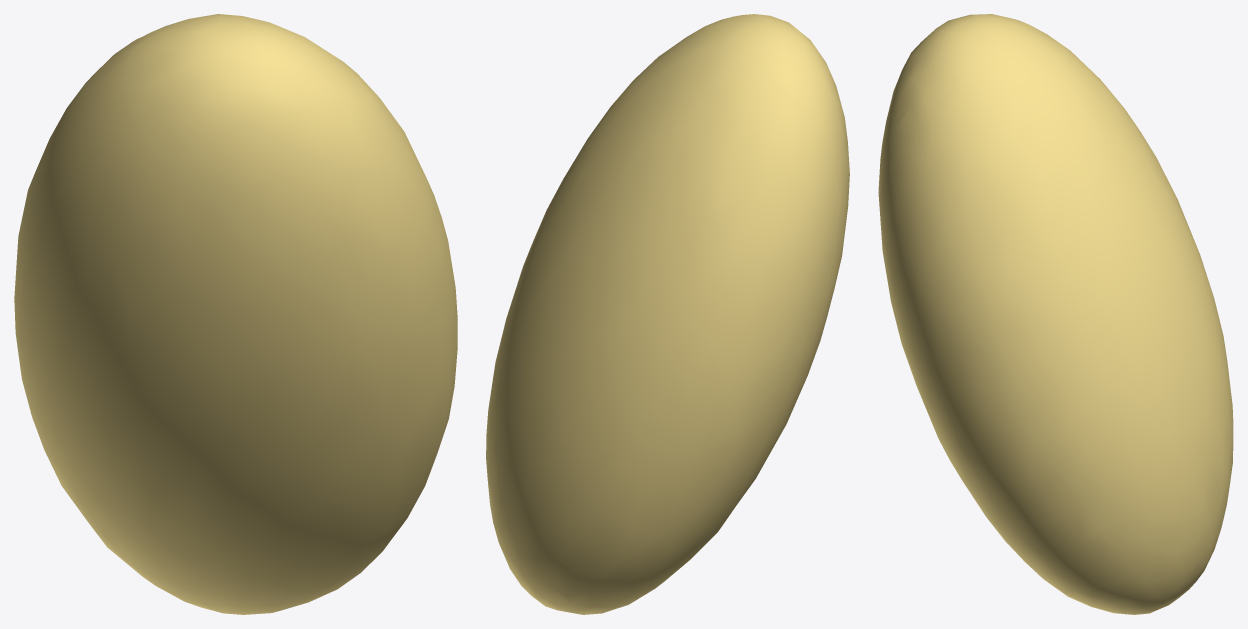
The model's file is fma54519_mm3566m.glb.
3 renders of one model, left to right at view 1: azimuth 30°, elevation 25°; view 2: azimuth 150°, elevation 25°; view 3: azimuth 270°, elevation 25°, orthographic. The views are drawn at different scales.
Visible parts, largest first — view 1: FMA54519_MM3566M; view 2: FMA54519_MM3566M; view 3: FMA54519_MM3566M.
Boxes of the visible parts, left/top/right/bottom form: FMA54519_MM3566M: left=14, top=14, right=457, bottom=614; FMA54519_MM3566M: left=486, top=14, right=849, bottom=614; FMA54519_MM3566M: left=878, top=14, right=1233, bottom=614.
Size of the model in its own units: 0.002 by 0.00337 by 0.00202.
